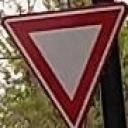preferencia: (5, 4, 128, 126)
